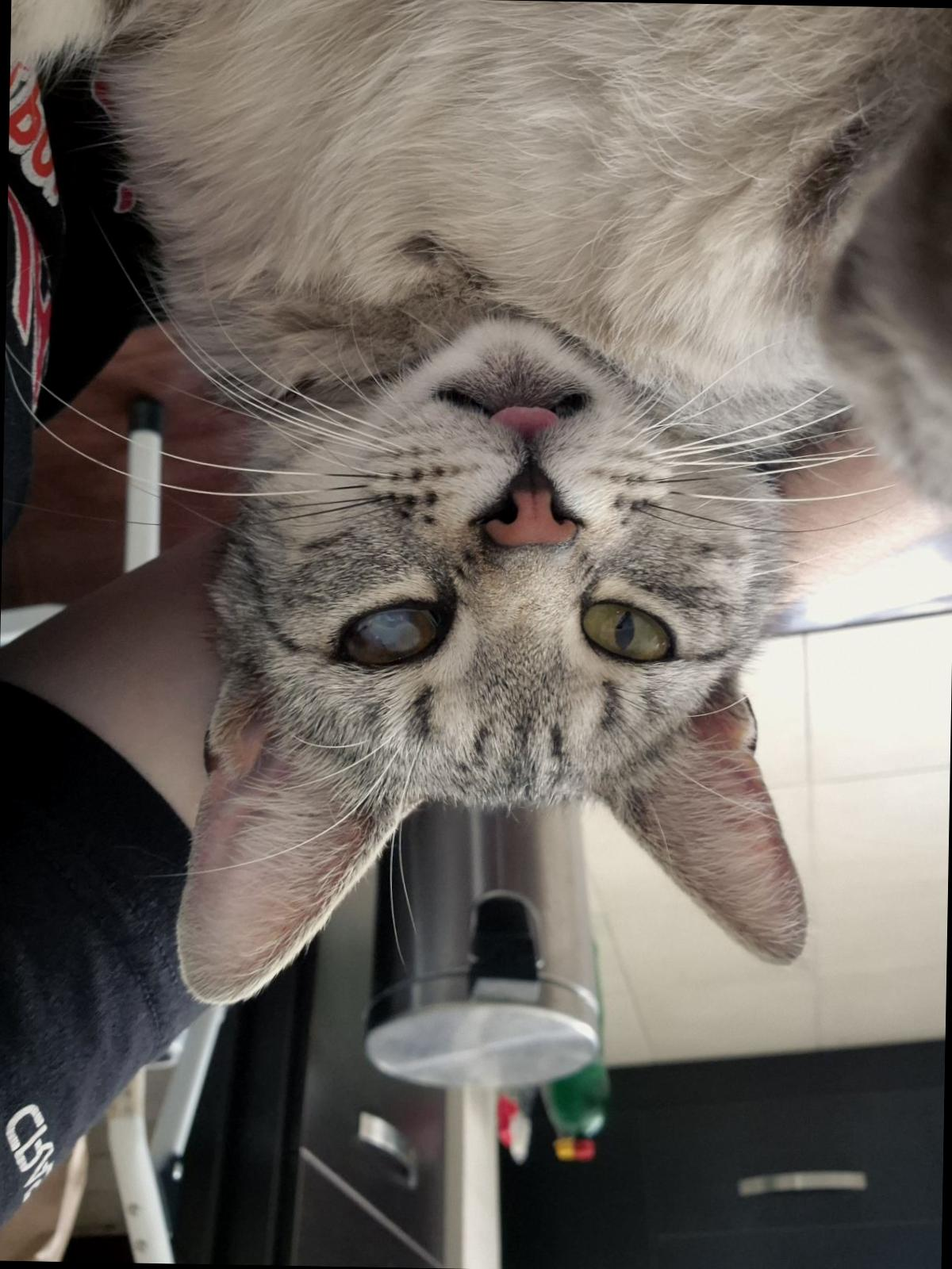macka: (0, 0, 952, 1014)
